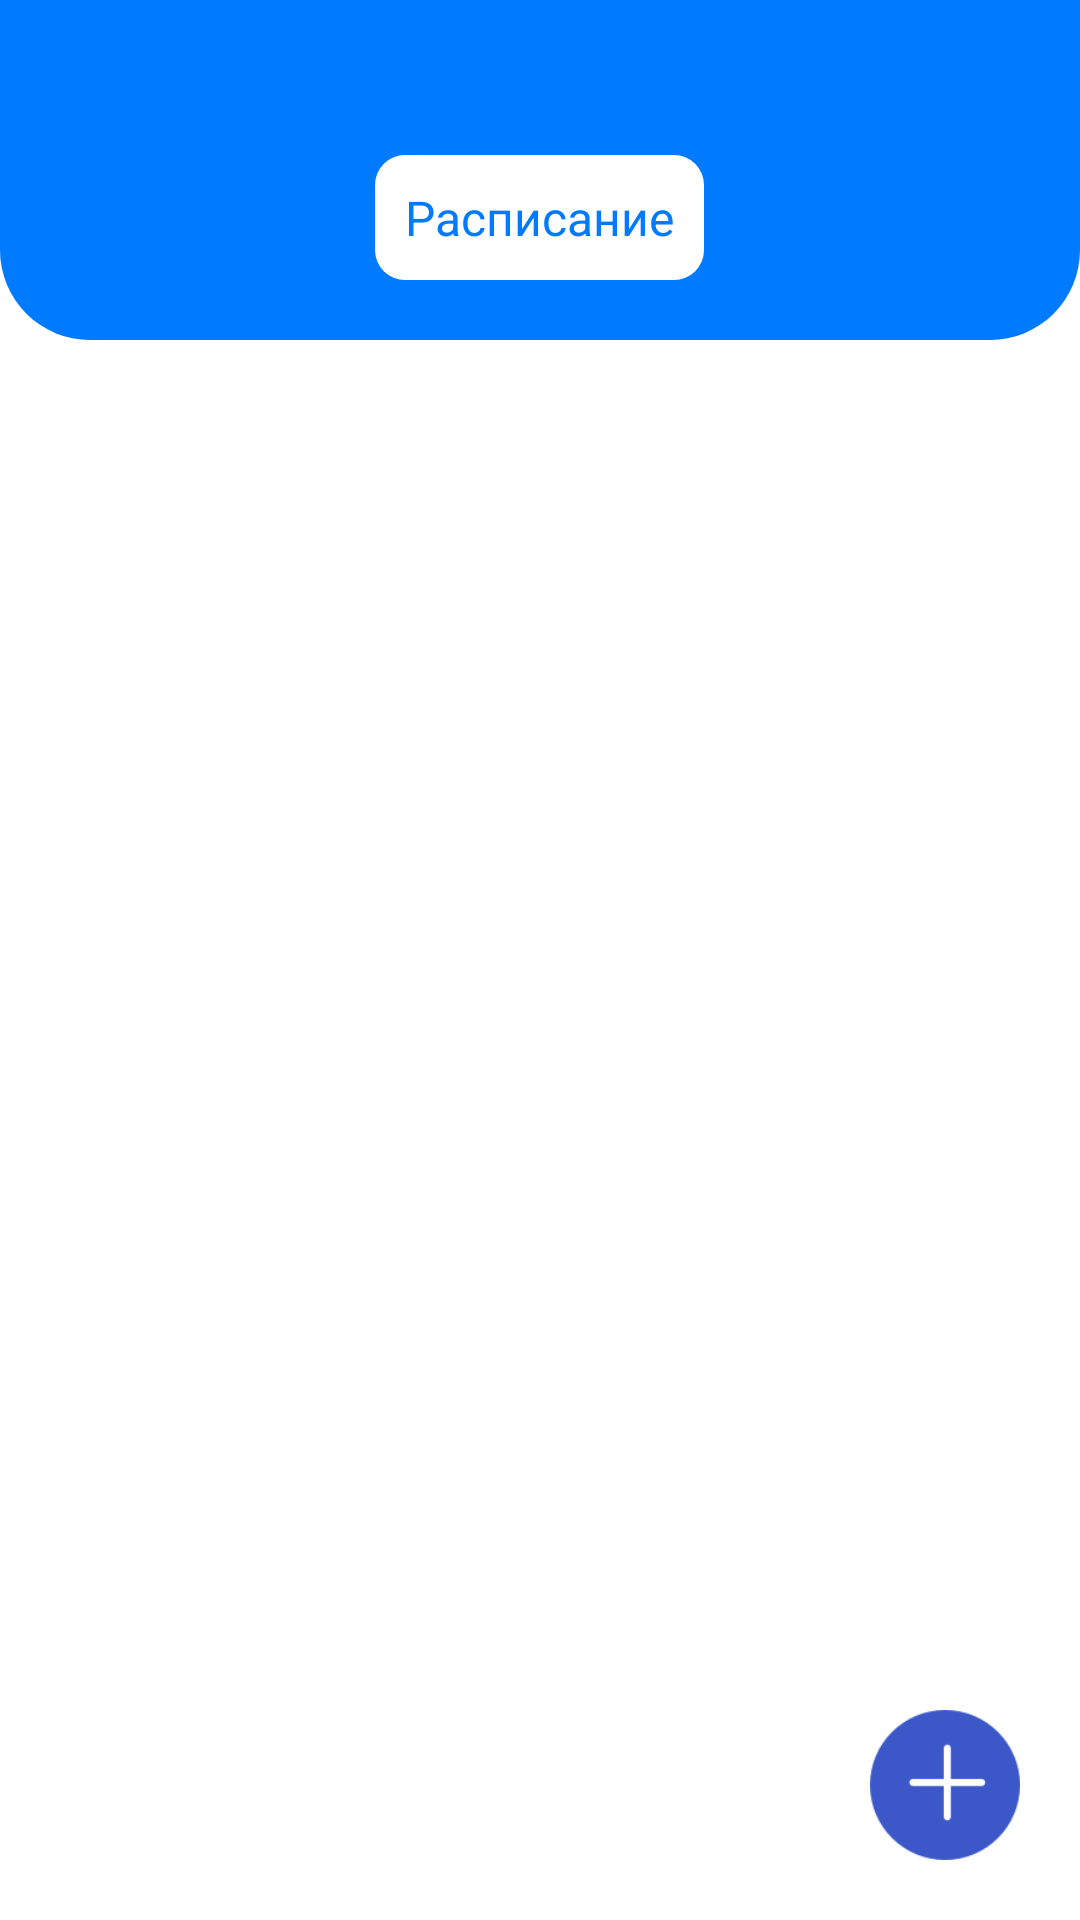

Where to tap for icons on this 1080px x 1920px app screen, as [x,y]:
add client: [945,1785]
